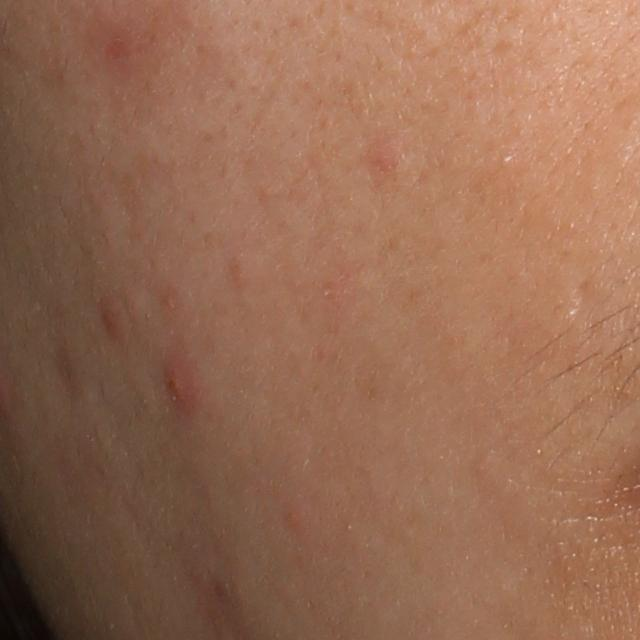papule: (156, 351, 201, 420), (97, 288, 141, 350), (367, 145, 401, 179), (282, 500, 307, 527)
